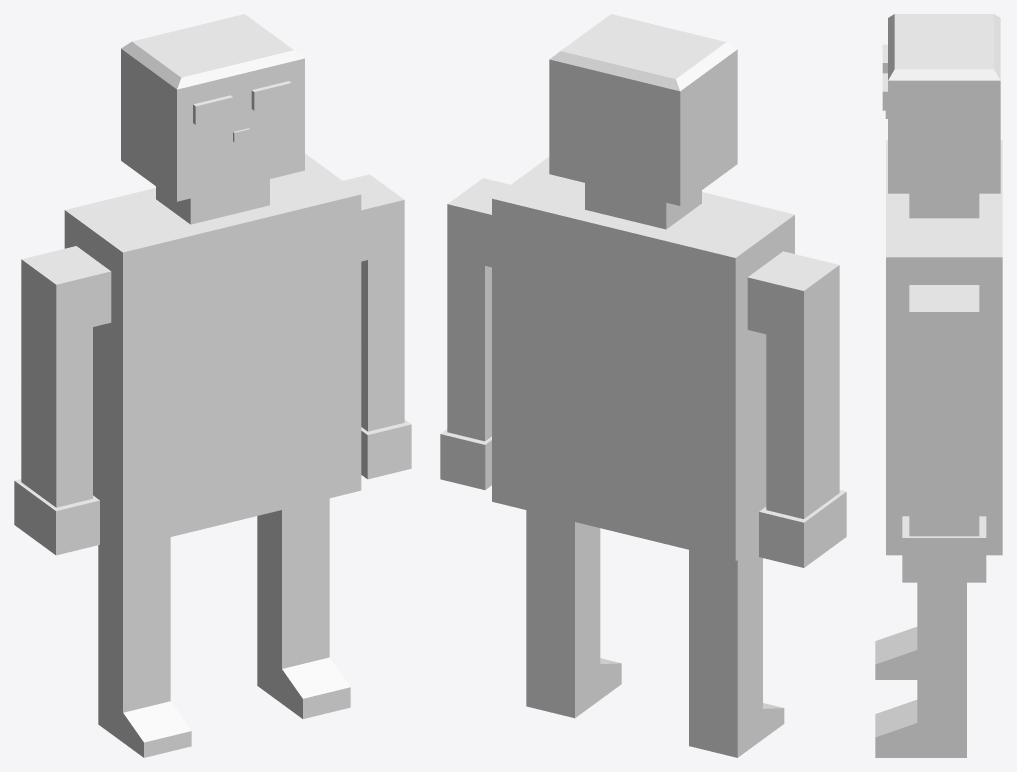
The model's file is Character + Cube (March Animation).glb.
The picture shows the model from 3 angles, left to right: view 1: azimuth 30°, elevation 25°; view 2: azimuth 150°, elevation 25°; view 3: azimuth 270°, elevation 25°; orthographic projection. The views are drawn at different scales.
Parts seen in each view (by area): view 1: Player.001; view 2: Player.001; view 3: Player.001.
Boxes of the visible parts, x1=… form: Player.001: x1=14, y1=14, x2=411, y2=757; Player.001: x1=440, y1=14, x2=846, y2=757; Player.001: x1=875, y1=14, x2=1002, y2=757.
Bounding box in the file's own units: 2.1 × 3.74 × 0.6493.
Materials: 1 (1 with a texture image).
